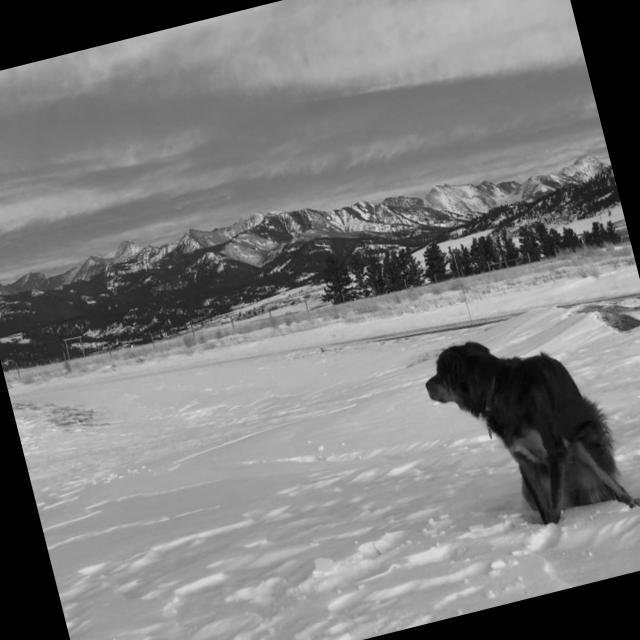squatting: (412, 301, 640, 554)
